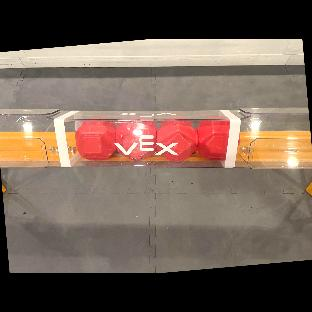Goal: (1, 108, 312, 170)
redingoal: (72, 115, 120, 166), (196, 113, 246, 157), (155, 116, 199, 163), (115, 115, 158, 161)
